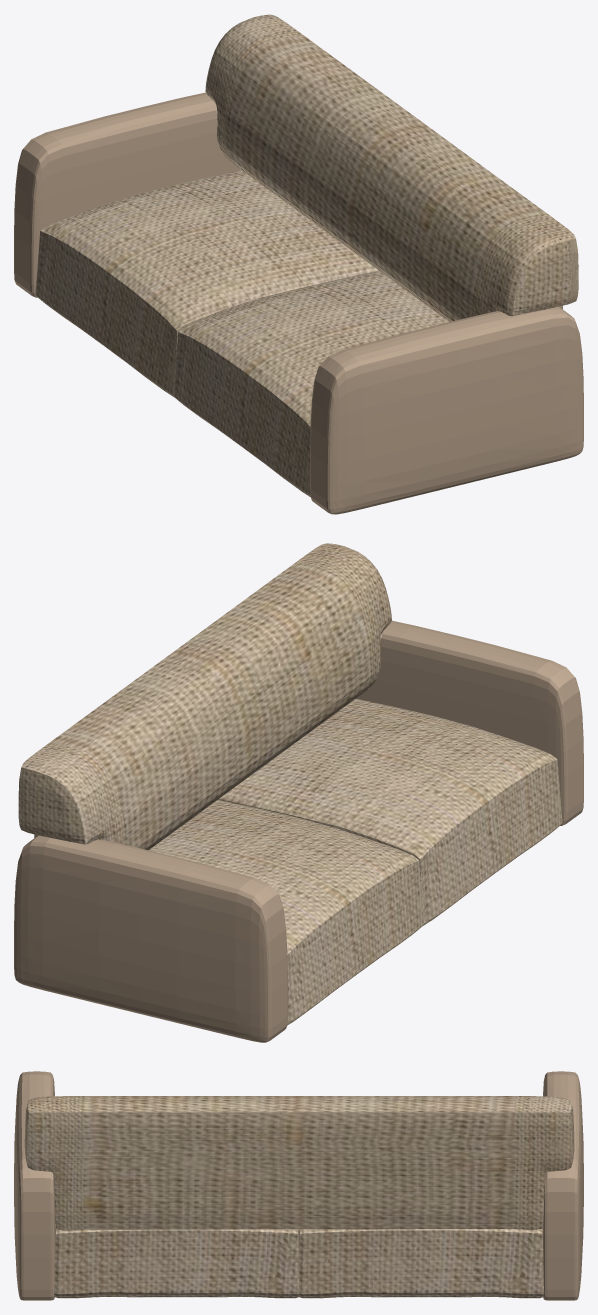
Rendered from sofa3.obj.
The picture shows the model from 3 angles, top to bottom: view 1: azimuth 30°, elevation 25°; view 2: azimuth 150°, elevation 25°; view 3: azimuth 270°, elevation 25°; orthographic projection. The views are drawn at different scales.
Parts seen in each view (by area): view 1: sofa2.1; view 2: sofa2.1; view 3: sofa2.1.
Boxes of the visible parts, x1,y1,x2,y2 form: sofa2.1: (14, 14, 583, 514); sofa2.1: (14, 543, 583, 1042); sofa2.1: (14, 1071, 583, 1300).
Size of the model in its own units: 93.75 by 75.68 by 203.
Materials: 1 (1 with a texture image).
